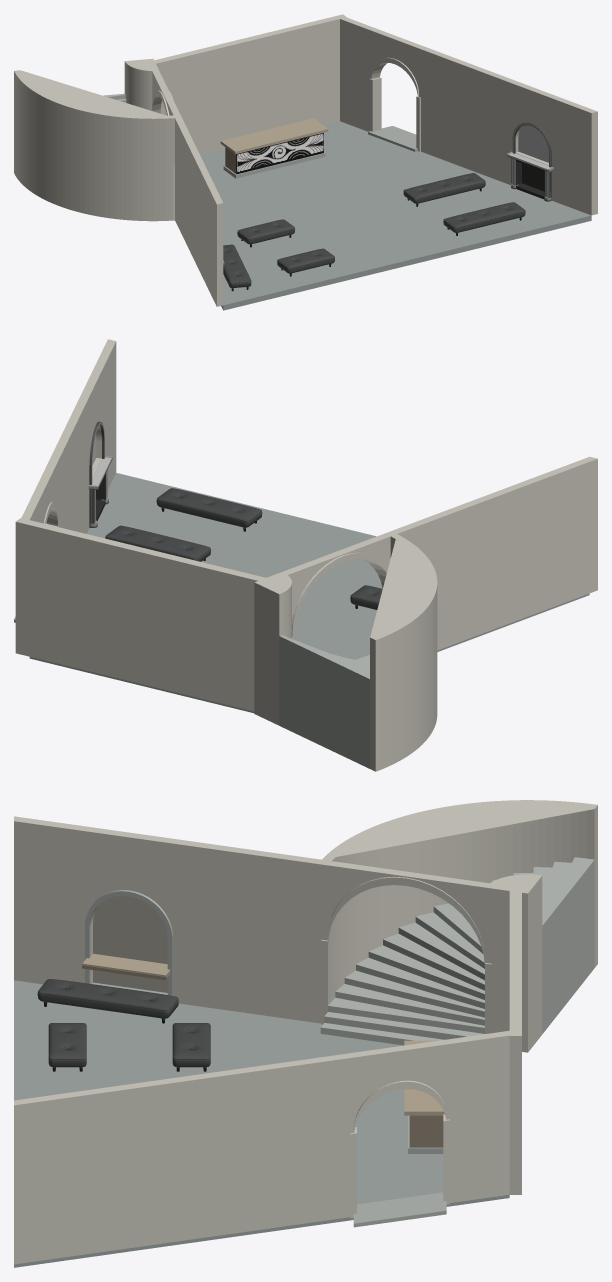
The model's file is Haunted_Fish_Hotel_Lobby_Revised_Unity.fbx.
3 renders of one model, top to bottom at view 1: azimuth 30°, elevation 25°; view 2: azimuth 150°, elevation 25°; view 3: azimuth 270°, elevation 25°, orthographic. The views are drawn at different scales.
Visible parts, largest first — view 1: Wall shell | splayed lobby and curved stairwell, Floor | splayed 16m to 8m, Reception | countertop, Reception | artwork inset panel, Seating | right upper long bench, Seating | right lower long bench, Seating | left upper ottoman, Seating | left lower ottoman, Seating | left wall long bench, Fireplace | pale inset arched panel, Entrance threshold, Reception | plinth (+2 smaller); view 2: Wall shell | splayed lobby and curved stairwell, Floor | splayed 16m to 8m, Quarter-turn tread 16, Seating | right lower long bench, Seating | right upper long bench, Seating | left upper ottoman; view 3: Wall shell | splayed lobby and curved stairwell, Floor | splayed 16m to 8m, Quarter-turn tread 16, Radio niche | inset back finish, Seating | left wall long bench, Entrance threshold, Quarter-turn tread 01, Quarter-turn tread 02, Quarter-turn tread 03, Seating | left lower ottoman, Seating | left upper ottoman, Entry tread 02 (+12 smaller).
Part boxes in pixels (bbox=[...]): Wall shell | splayed lobby and curved stairwell: bbox=[14, 14, 597, 306]; Floor | splayed 16m to 8m: bbox=[200, 121, 591, 310]; Reception | countertop: bbox=[220, 118, 328, 154]; Reception | artwork inset panel: bbox=[236, 133, 323, 172]; Seating | right upper long bench: bbox=[403, 173, 485, 206]; Seating | right lower long bench: bbox=[443, 202, 525, 235]; Seating | left upper ottoman: bbox=[237, 219, 294, 247]; Seating | left lower ottoman: bbox=[277, 248, 334, 276]; Seating | left wall long bench: bbox=[223, 244, 251, 291]; Fireplace | pale inset arched panel: bbox=[518, 125, 548, 162]; Entrance threshold: bbox=[368, 126, 417, 151]; Reception | plinth: bbox=[223, 152, 325, 178]; Wall shell | splayed lobby and curved stairwell: bbox=[15, 339, 597, 771]; Floor | splayed 16m to 8m: bbox=[29, 473, 589, 713]; Quarter-turn tread 16: bbox=[279, 635, 369, 768]; Seating | right lower long bench: bbox=[156, 488, 262, 531]; Seating | right upper long bench: bbox=[105, 525, 210, 561]; Seating | left upper ottoman: bbox=[350, 585, 382, 609]; Wall shell | splayed lobby and curved stairwell: bbox=[14, 800, 597, 1264]; Floor | splayed 16m to 8m: bbox=[14, 980, 509, 1267]; Quarter-turn tread 16: bbox=[542, 857, 594, 1033]; Radio niche | inset back finish: bbox=[93, 895, 167, 992]; Seating | left wall long bench: bbox=[37, 979, 178, 1023]; Entrance threshold: bbox=[353, 1192, 446, 1227]; Quarter-turn tread 01: bbox=[328, 997, 484, 1033]; Quarter-turn tread 02: bbox=[335, 984, 484, 1025]; Quarter-turn tread 03: bbox=[344, 970, 484, 1017]; Seating | left lower ottoman: bbox=[48, 1023, 86, 1071]; Seating | left upper ottoman: bbox=[172, 1023, 210, 1071]; Entry tread 02: bbox=[324, 1012, 484, 1039].
Bounding box in the file's own units: 17.49 × 4.47 × 14.14.
Materials: 16 (1 with a texture image).
